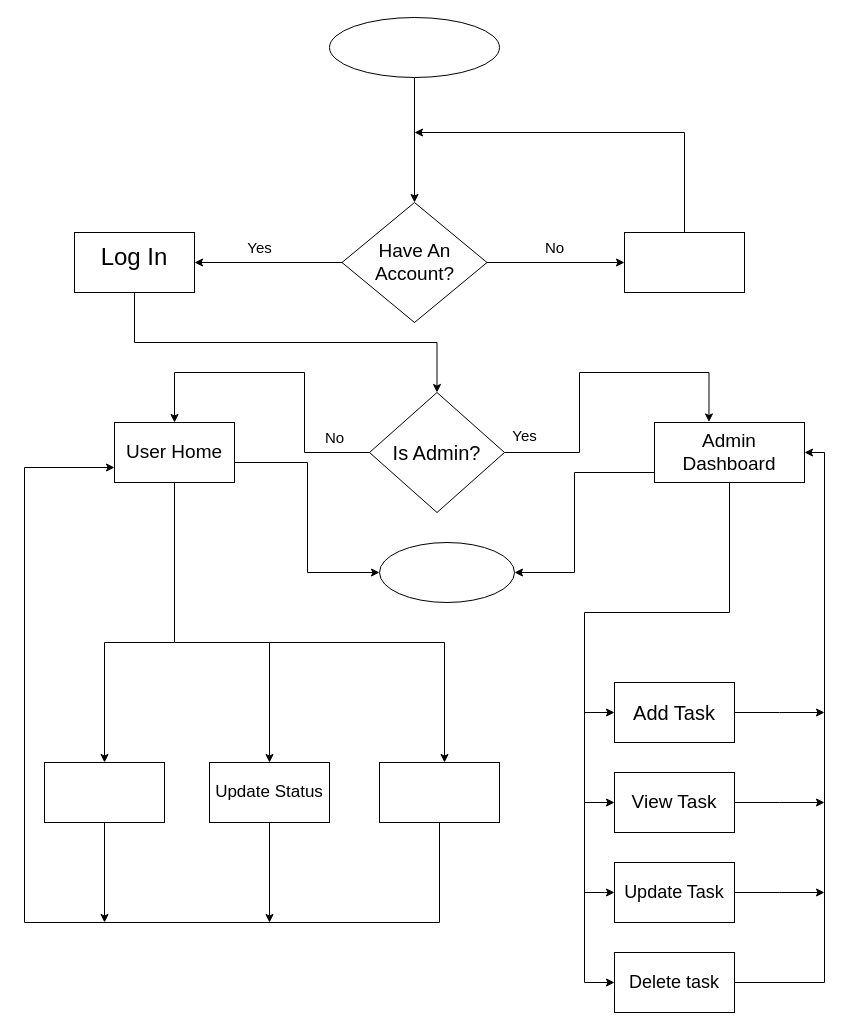
Some shapes in this 850 by 1030 pixel diagram are drawn without their labels. Here are the shapes that lost their labels. From the top down, the box of each, then its label:
(328, 16, 500, 78): Start
(624, 232, 744, 292): Sign Up
(378, 542, 514, 602): Stop
(44, 762, 164, 822): Search Task
(378, 762, 500, 822): Add Comments
